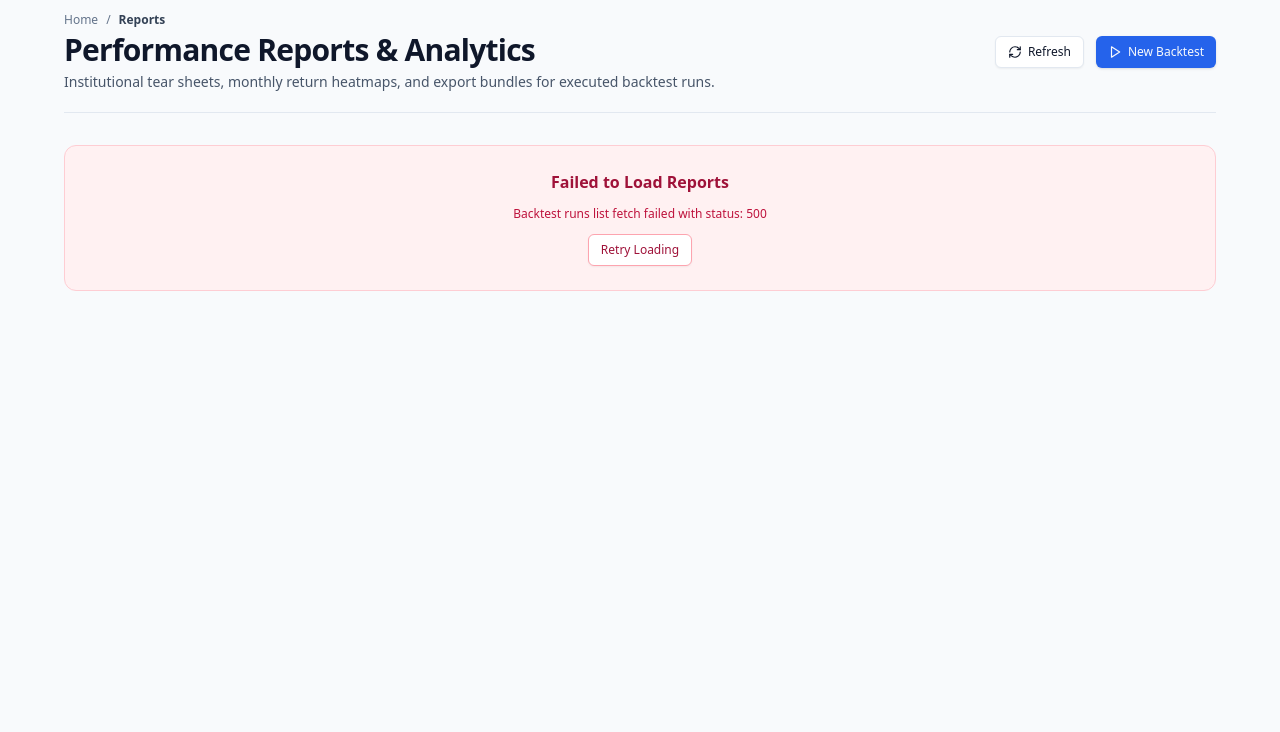
it: ReportsHubPage Component (/reports) › renders error state when fetch fails and allows retry
The width and height of the screenshot is (1280, 732).
Expected: the element with test id "reports-error" is shown, [64, 145, 1216, 291]
Expected: the heading "Failed to Load Reports" is shown, [551, 171, 729, 193]
# Click retry
Click the button "Retry Loading".
click(640, 250)  # box [588, 234, 692, 266]
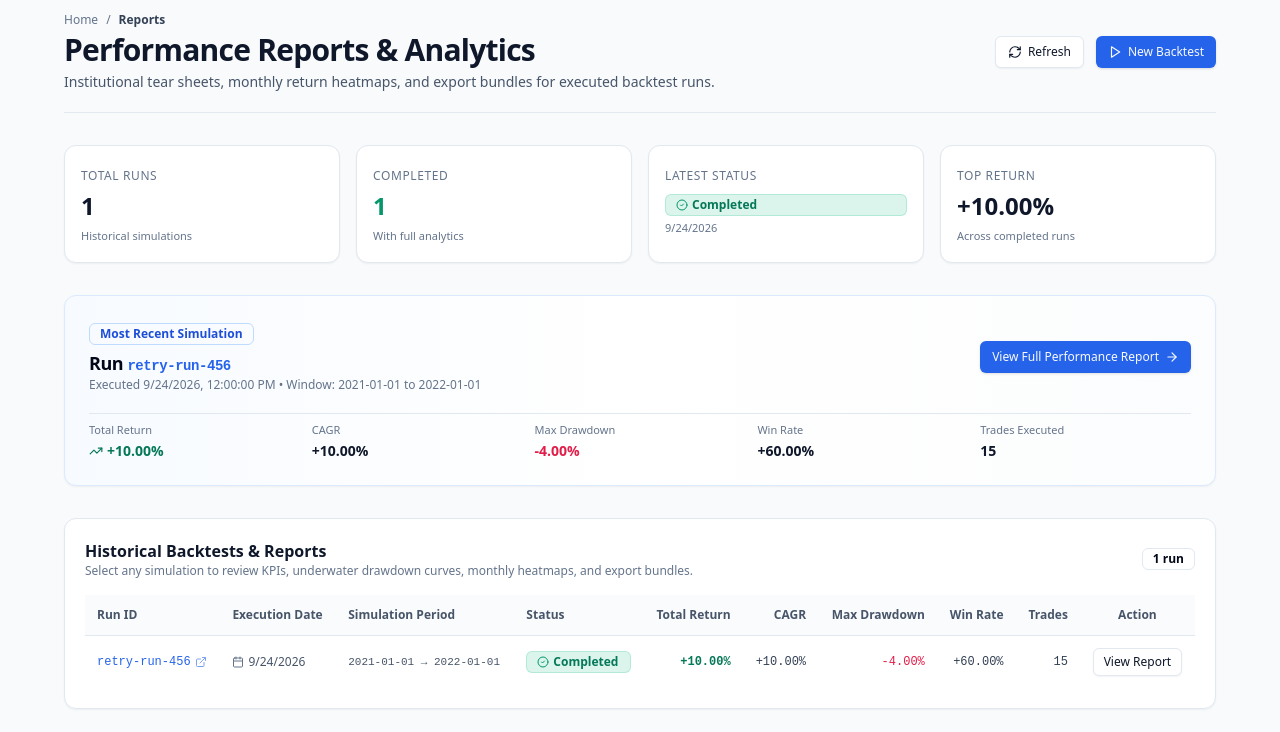
Expected: the row with test id "row-report-retry-run-456" is shown, [85, 635, 1195, 688]
